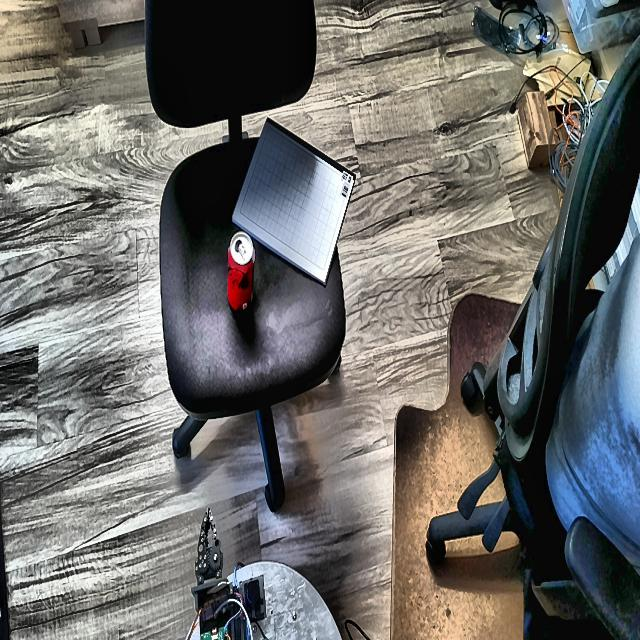Can: (228, 232, 254, 311)
